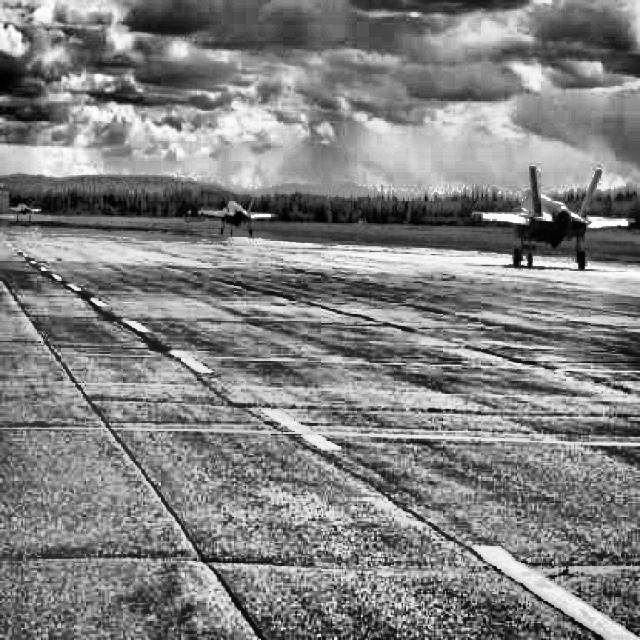F35: (471, 165, 637, 270), (198, 190, 276, 238), (8, 198, 41, 222)
